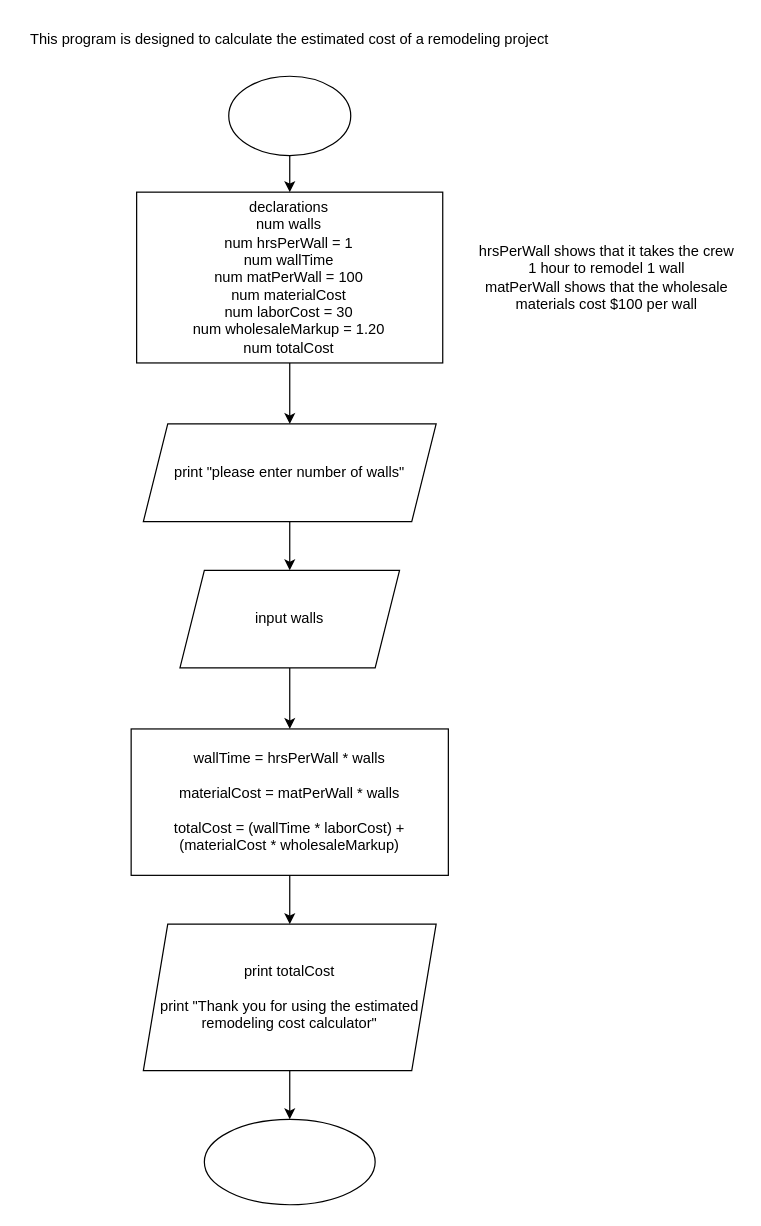
This 761x1226 diagram has some shape labels left out. The box of each missing label's shape, as (x1, y1, x2, y2) in pixels:
start: (228, 75, 351, 156)
stop: (203, 1118, 375, 1205)
